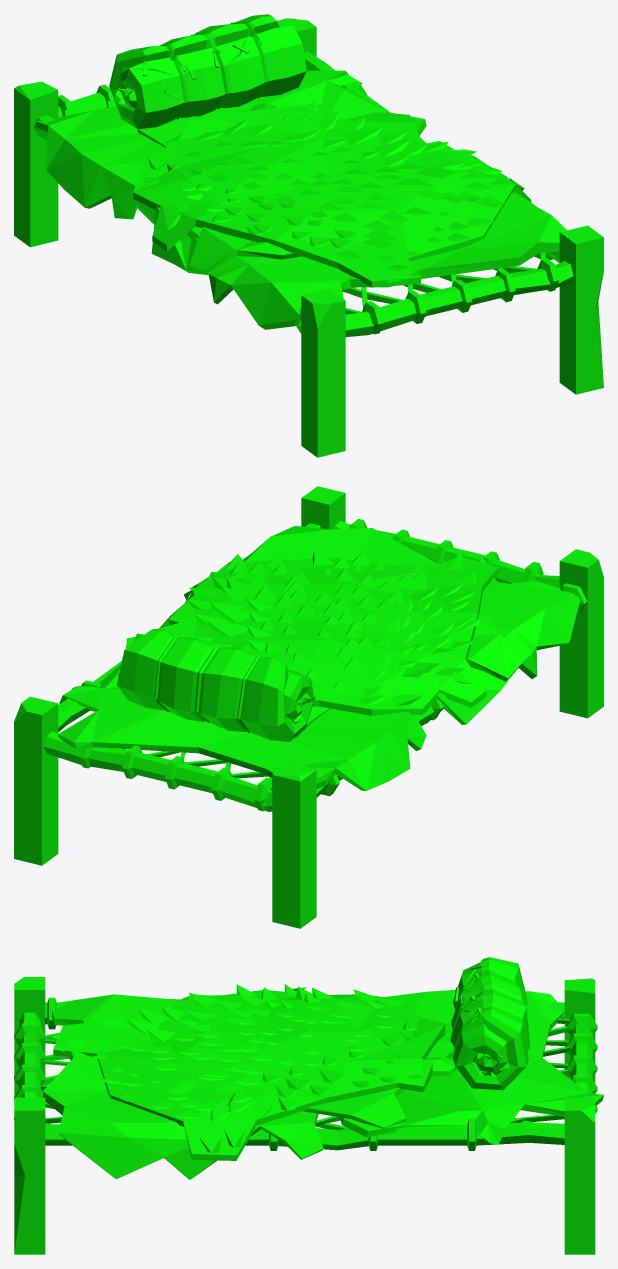
The model's file is SM_Bed_Single_Rope_B_Fantasy.fbx.
The picture shows the model from 3 angles, top to bottom: view 1: azimuth 30°, elevation 25°; view 2: azimuth 150°, elevation 25°; view 3: azimuth 270°, elevation 25°; orthographic projection. The views are drawn at different scales.
Parts seen in each view (by area): view 1: bed-single-rope-b-fantasy; view 2: bed-single-rope-b-fantasy; view 3: bed-single-rope-b-fantasy.
Boxes of the visible parts, x1,y1,x2,y2 form: bed-single-rope-b-fantasy: (14,14,603,457); bed-single-rope-b-fantasy: (14,486,603,928); bed-single-rope-b-fantasy: (14,957,603,1254).
Bounding box in the file's own units: 1.35 × 0.8296 × 2.19.
